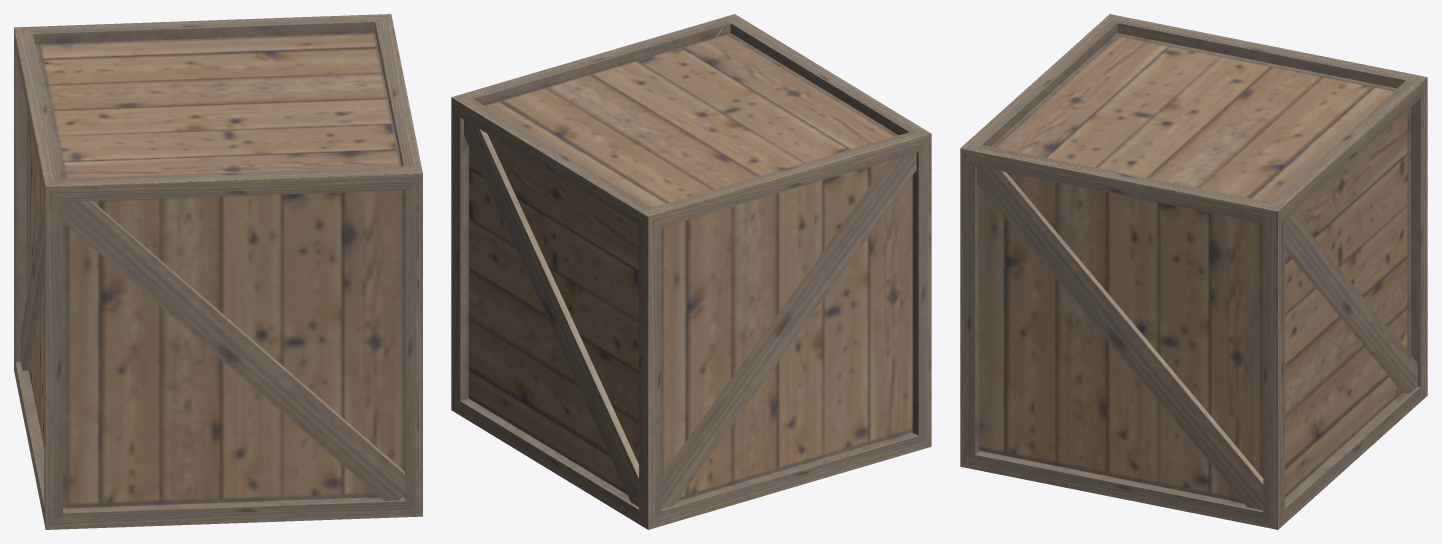
The picture shows the model from 3 angles, left to right: view 1: azimuth 30°, elevation 25°; view 2: azimuth 150°, elevation 25°; view 3: azimuth 270°, elevation 25°; orthographic projection. The views are drawn at different scales.
Visible parts, largest first — view 1: Crate002; view 2: Crate002; view 3: Crate002.
Part boxes in pixels (x1,y1,x2,y2): Crate002: (14,14,422,529); Crate002: (451,14,931,529); Crate002: (960,14,1427,529).
Size of the model in its own units: 26.79 by 20.13 by 26.79.
1 material, 1 textured.
